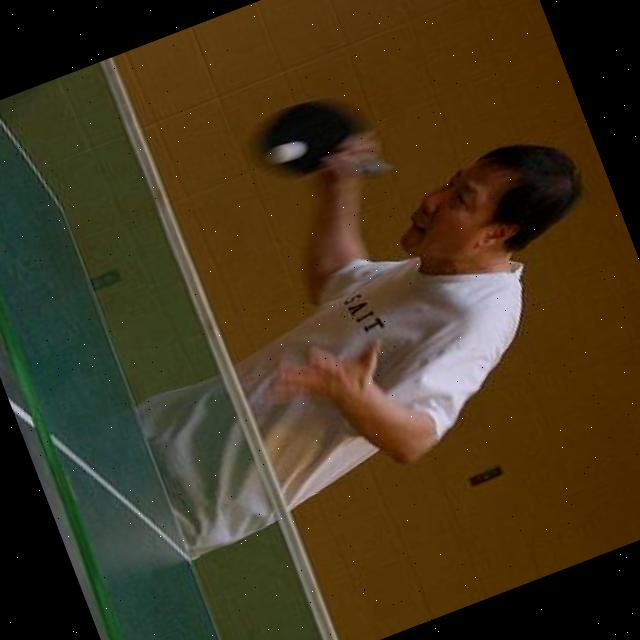ping-pong-ball: (262, 134, 312, 170)
